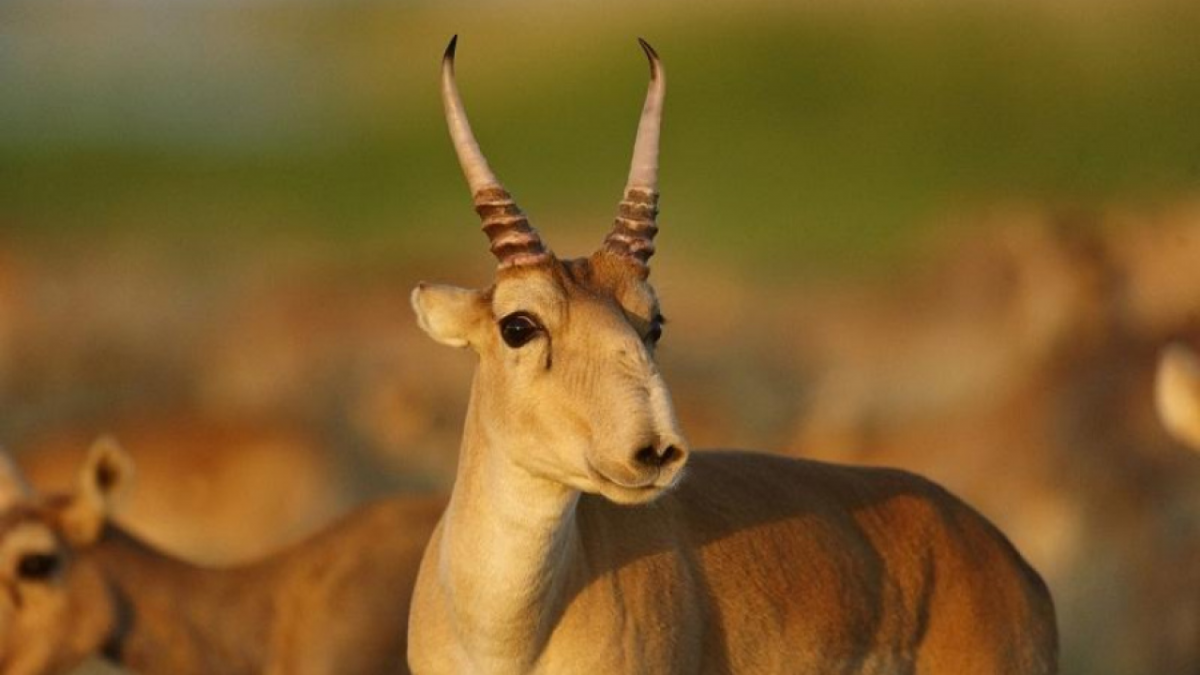saiga: (408, 30, 1067, 675)
